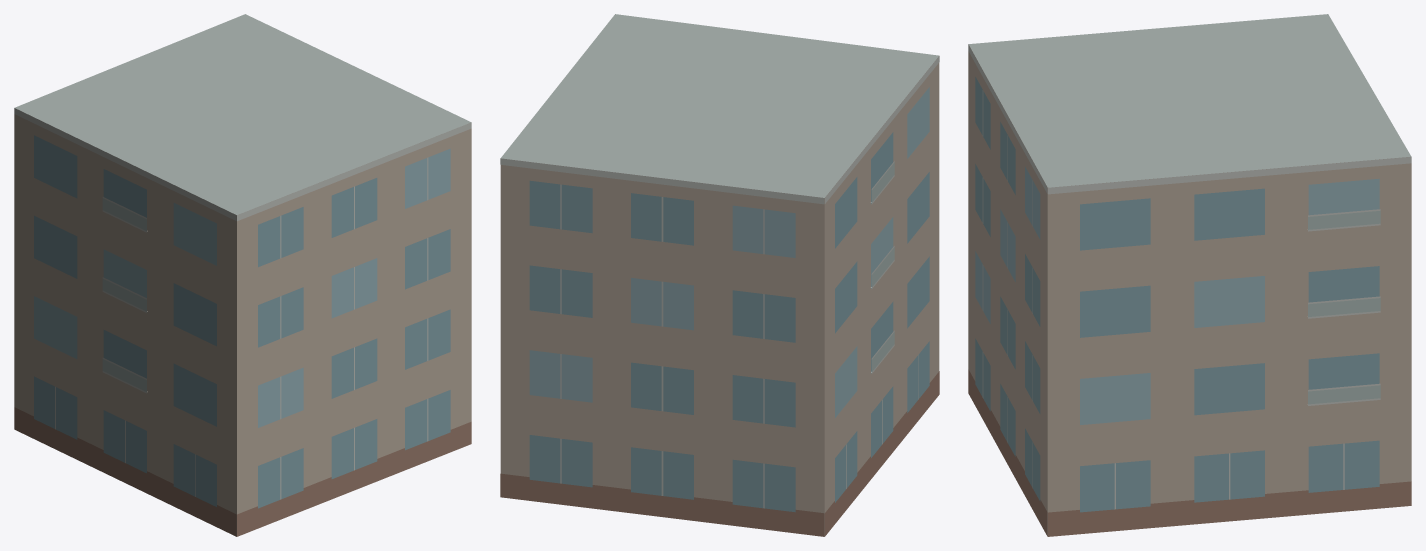
The model's file is survey-upis-32600945.glb.
3 views of the same model, side by side, from view 1: azimuth 30°, elevation 25°; view 2: azimuth 150°, elevation 25°; view 3: azimuth 270°, elevation 25° (orthographic). The views are drawn at different scales.
Parts seen in each view (by area): view 1: survey-upis-32600945.tmp; view 2: survey-upis-32600945.tmp; view 3: survey-upis-32600945.tmp.
Boxes of the visible parts, x1,y1,x2,y2 form: survey-upis-32600945.tmp: [14, 14, 471, 536]; survey-upis-32600945.tmp: [500, 14, 939, 536]; survey-upis-32600945.tmp: [968, 14, 1411, 536].
Bounding box in the file's own units: 13.67 × 12.8 × 14.73.
